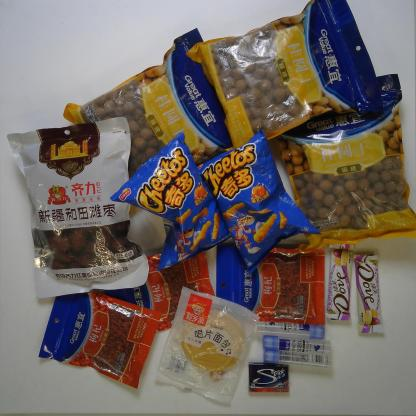Chocolate: (352, 251, 385, 336), (322, 241, 356, 321)
Dessert: (154, 286, 260, 408)
Dried Food: (62, 27, 255, 204), (184, 0, 385, 159), (269, 70, 416, 254), (6, 115, 151, 300)
Dried Fruit: (37, 277, 162, 389), (89, 244, 222, 340), (211, 239, 326, 329)
Gum: (247, 359, 290, 394)
Puffed Food: (190, 125, 324, 276), (109, 129, 243, 273)
Stationery: (261, 334, 334, 359), (255, 319, 326, 341), (262, 349, 336, 369)
